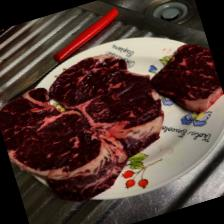meat: (0, 66, 137, 216), (42, 40, 174, 174), (141, 36, 224, 125)
